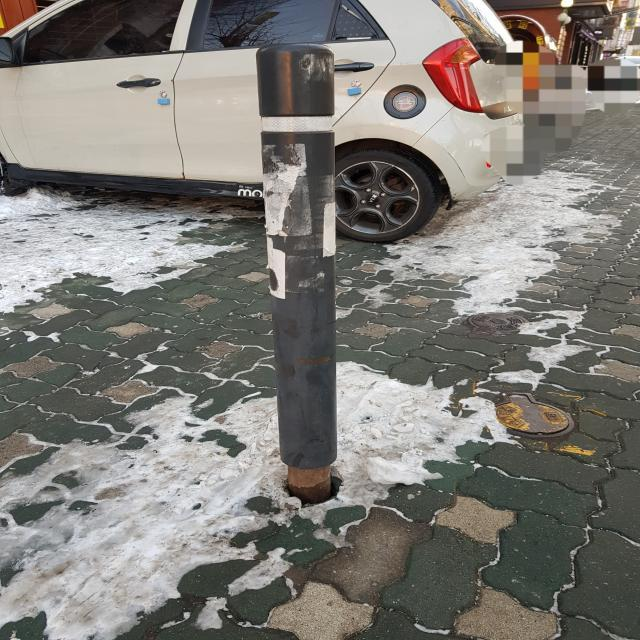pole: (252, 36, 342, 502)
